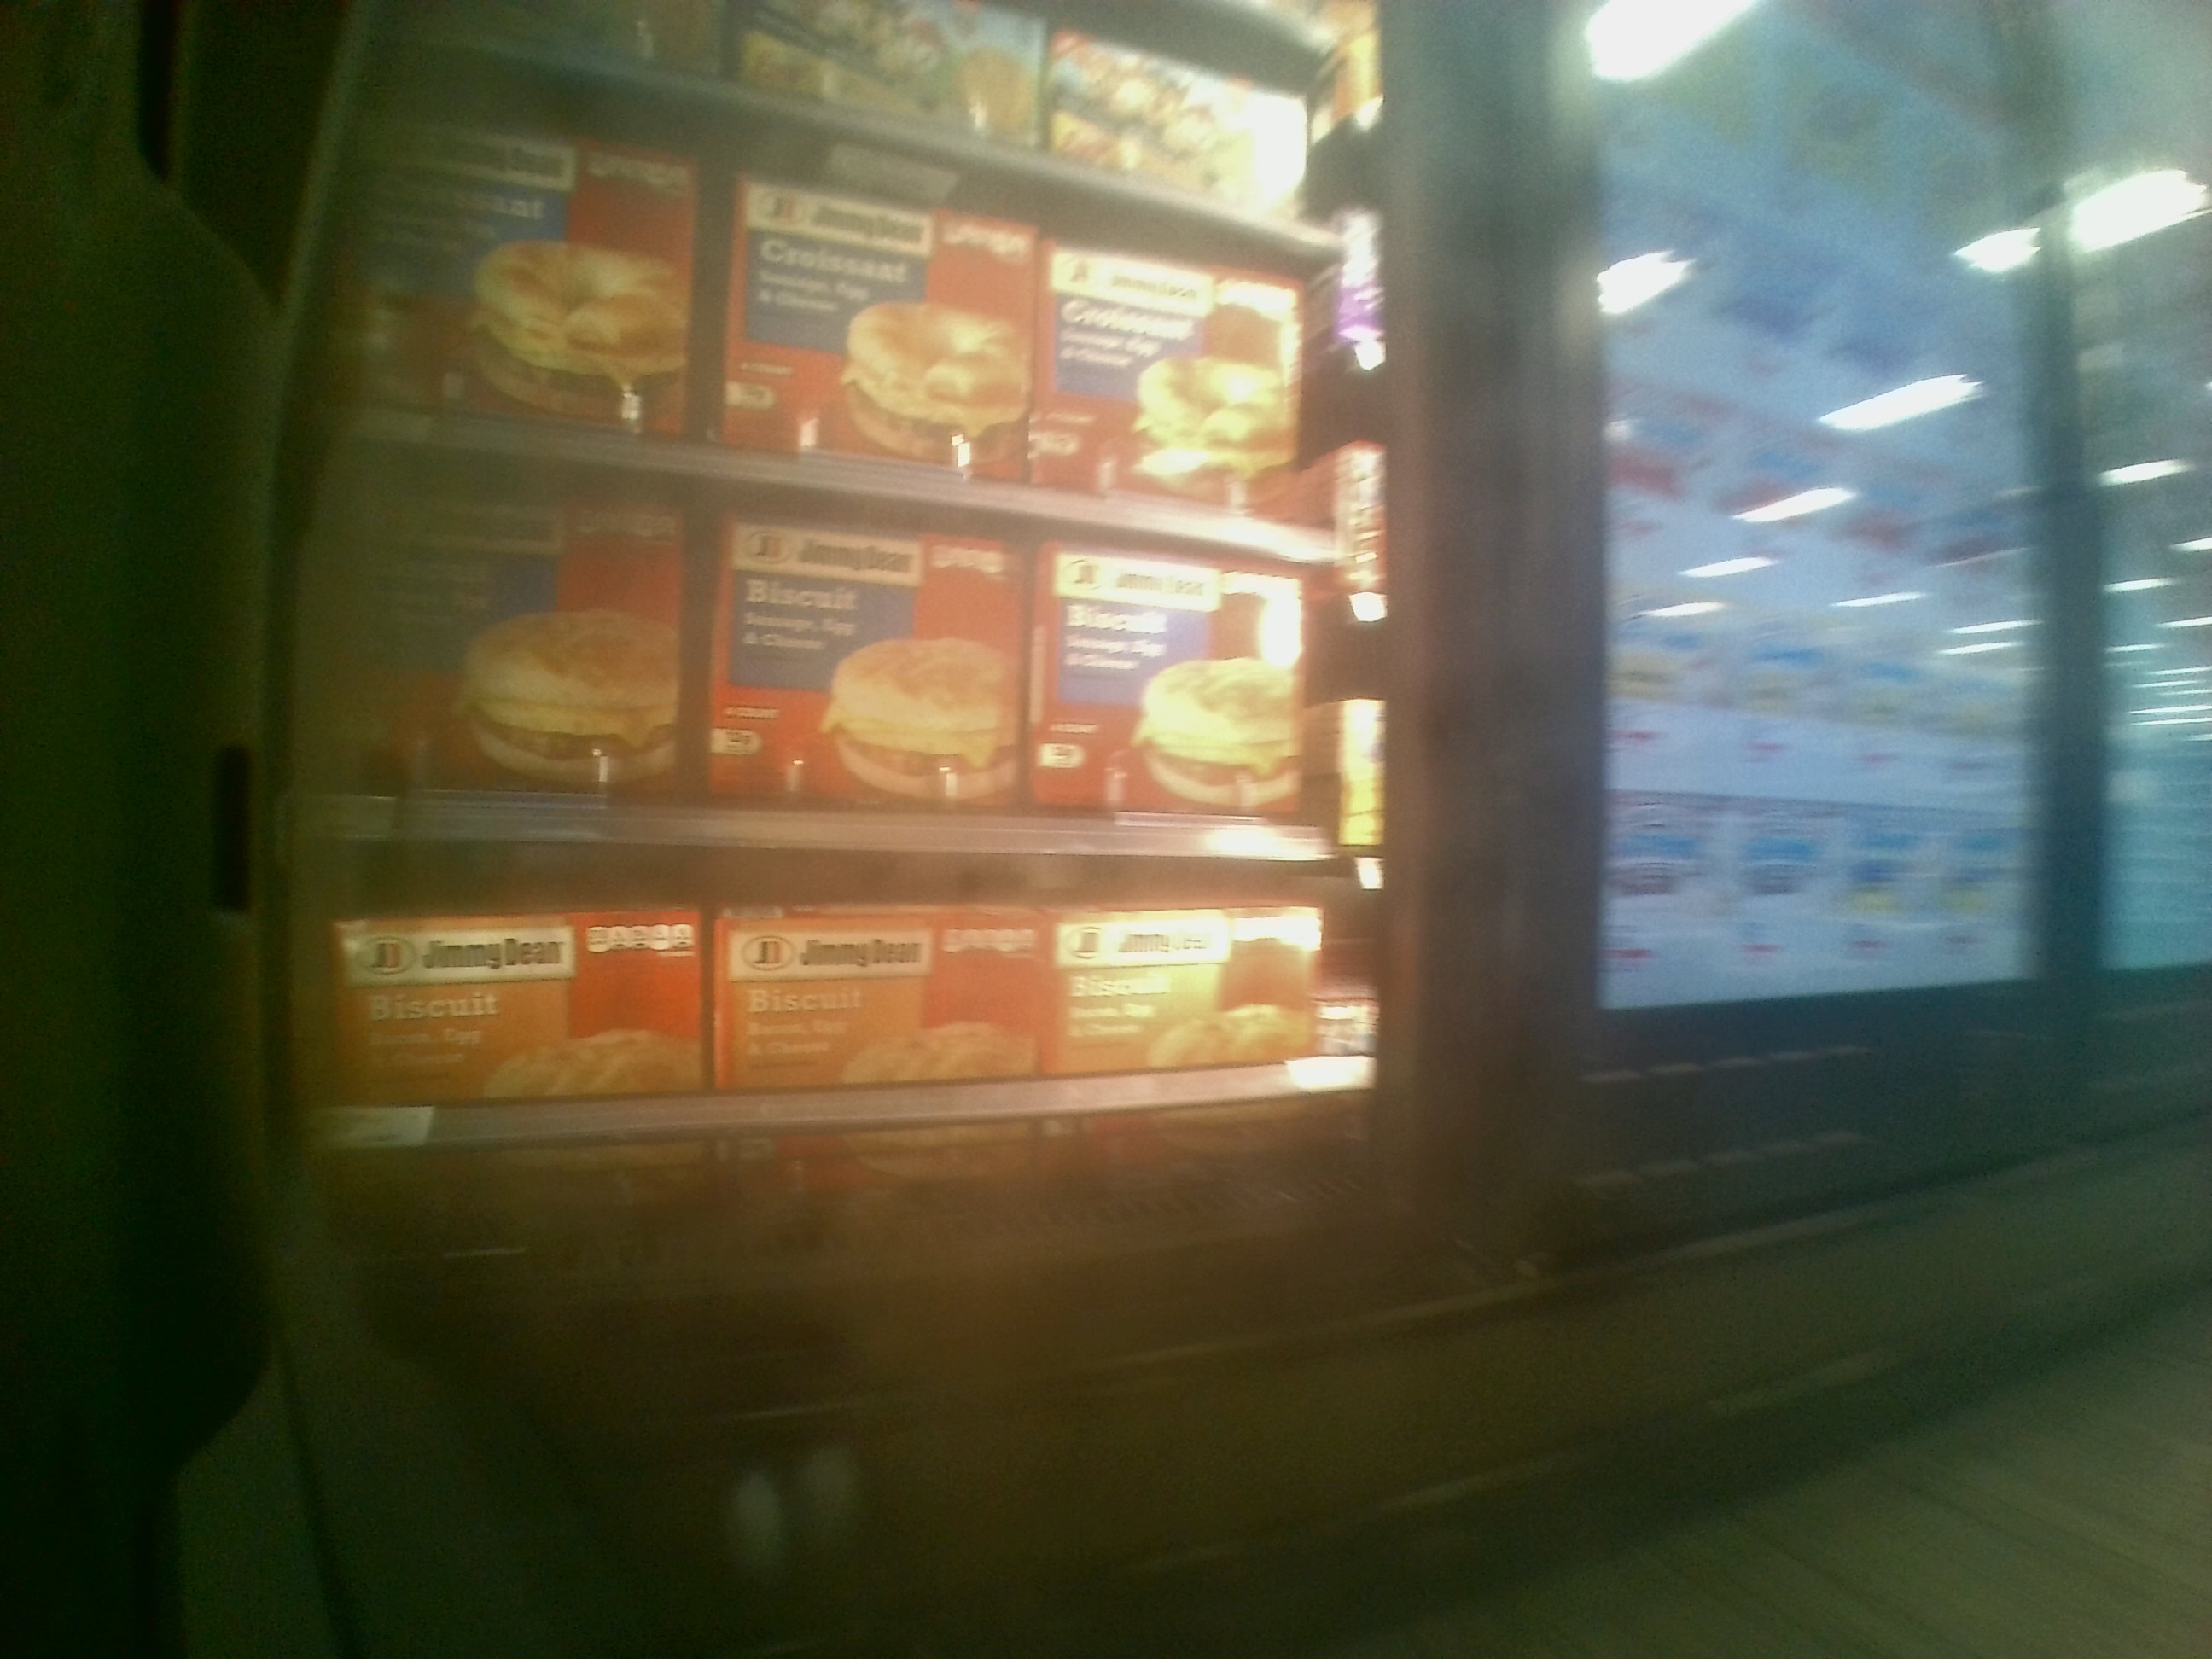shelf: (314, 441, 1360, 863), (308, 847, 1390, 1236)
